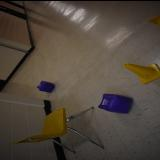cone: (123, 62, 160, 84), (148, 14, 160, 28)
cube: (97, 92, 133, 112), (36, 80, 56, 92)
